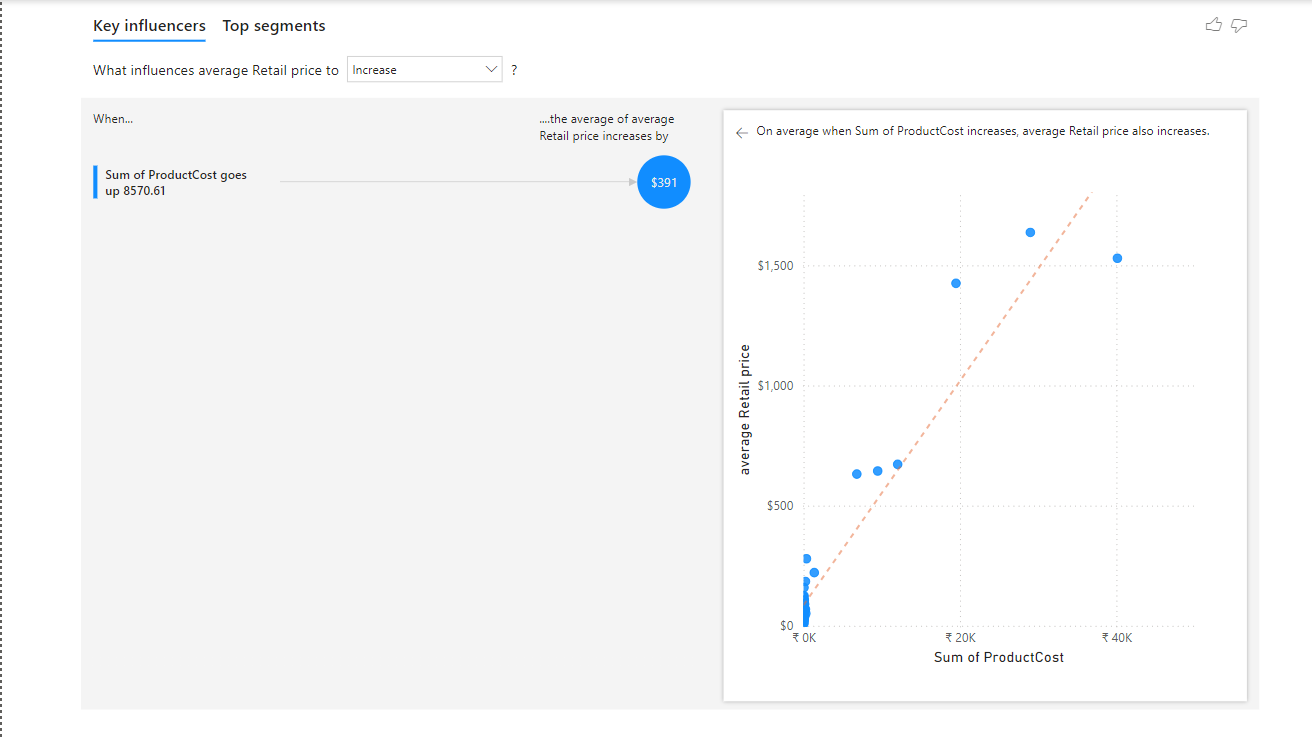

This screenshot's page, from the dashboard's own definition file:
{"tool":"powerbi","page":{"name":"key influncer","canvas":[1280,720],"ordinal":7},"visuals":[{"type":"keyDriversVisual","fields":{"ExplainBy":["Sum(Product Lookup.ProductCost)"],"Target":["Measure Table.average Retail price"],"Details":["Product Lookup.ProductSubcategoryKey"]},"box":[71.3,0,1158.5,696.4],"z":1000}]}

Visuals, with their boxes in screenshot pixels (x1, y1, x2, y2), scaled from the page's 1280x720 canvas onto the 1312x738 screenshot:
keyDriversVisual - Sum(Product Lookup.ProductCost) x Measure Table.average Retail price: Rect(73, 0, 1261, 714)
